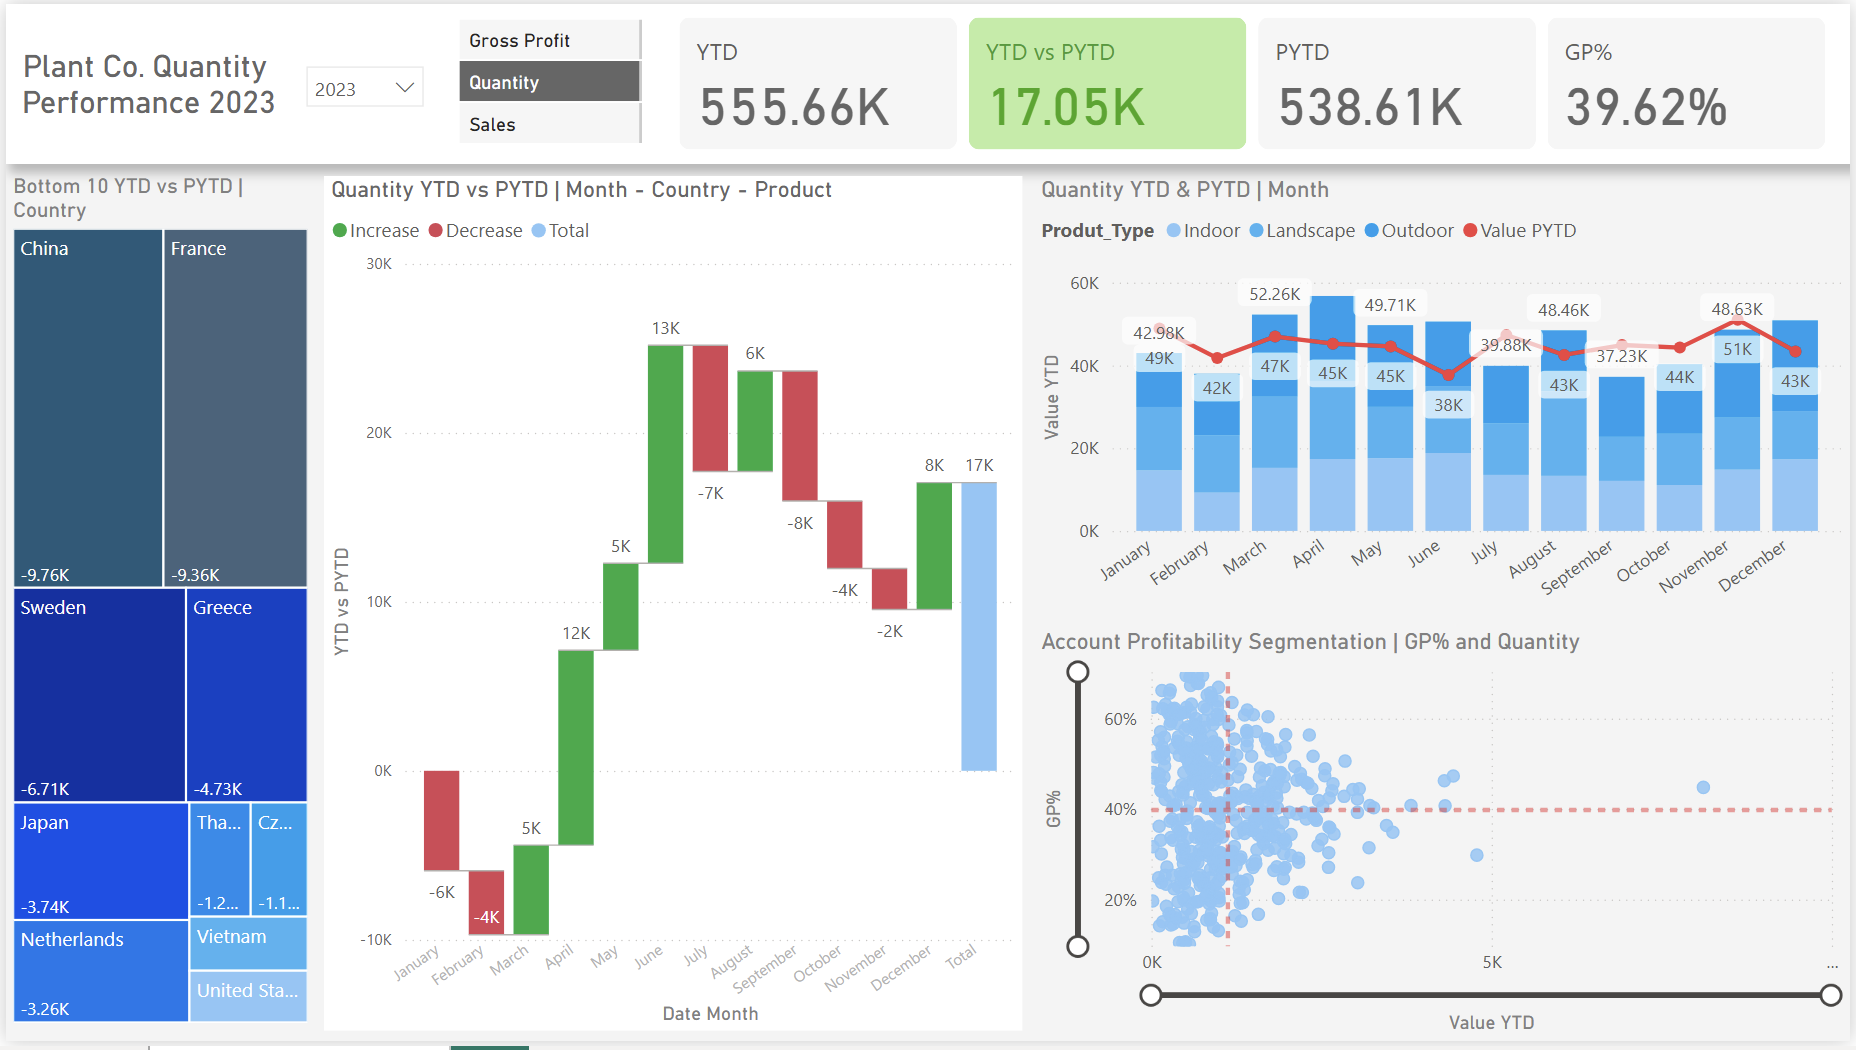

This screenshot's page, from the dashboard's own definition file:
{"tool":"powerbi","page":{"name":"Performance Report","canvas":[1280,720],"ordinal":0},"visuals":[{"type":"cardVisual","fields":{"Data":["_Measures.S_YTD","_Measures.YTD vs PYTD","_Measures.S_PYTD","_Measures.GP%"]},"box":[463,4.2,806.2,102.1],"z":0},{"type":"advancedSlicerVisual","fields":{"Values":["Slc_Values.Values"]},"box":[309.8,5.9,137.3,98],"z":1000},{"type":"slicer","fields":{"Values":["Dim_Date.Date.Variation.Date Hierarchy.Year"]},"box":[198.4,32.7,101.3,50.2],"z":2000},{"type":"treemap","title":"Bottom 10 YTD vs PYTD | Country","fields":{"Values":["_Measures.YTD vs PYTD"],"Group":["Dim_Account.country"]},"box":[0,118.7,214.6,594.4],"z":3000},{"type":"waterfallChart","fields":{"Y":["_Measures.YTD vs PYTD"],"Category":["Dim_Date.Date.Variation.Date Hierarchy.Month","Dim_Account.country","Dim_Product.Produt_Type","Dim_Product.Product_Name"]},"box":[220.3,119.6,485.2,593.5],"z":4000},{"type":"lineStackedColumnComboChart","fields":{"Y":["_Measures.S_YTD"],"Y2":["_Measures.S_PYTD"],"Category":["Dim_Date.Date.Variation.Date Hierarchy.Quarter","Dim_Date.Date.Variation.Date Hierarchy.Month"],"Series":["Dim_Product.Produt_Type"]},"box":[714.1,119.6,565.9,314.3],"z":5000},{"type":"scatterChart","fields":{"Y":["_Measures.GP%"],"X":["_Measures.S_YTD"],"Category":["Dim_Account.Account"]},"box":[714.1,433.9,565.9,285.8],"z":6000},{"type":"card","fields":{"Values":["_Measures._Report title"]},"box":[0,20.9,198.5,68.4],"z":7000}]}

Visuals, with their boxes in screenshot pixels (x1, y1, x2, y2), scaled from the page's 1280x720 canvas onto the 1856x1050 screenshot:
cardVisual - _Measures.S_YTD x _Measures.YTD vs PYTD: detection(671, 6, 1840, 155)
advancedSlicerVisual - Slc_Values.Values: detection(449, 9, 648, 152)
slicer - Dim_Date.Date.Variation.Date Hierarchy.Year: detection(288, 48, 435, 121)
"Bottom 10 YTD vs PYTD | Country" treemap: detection(0, 173, 311, 1040)
waterfallChart - _Measures.YTD vs PYTD x Dim_Date.Date.Variation.Date Hierarchy.Month: detection(319, 174, 1023, 1040)
lineStackedColumnComboChart - _Measures.S_YTD x _Measures.S_PYTD: detection(1035, 174, 1855, 633)
scatterChart - _Measures.GP% x _Measures.S_YTD: detection(1035, 633, 1855, 1049)
card - _Measures._Report title: detection(0, 30, 288, 130)
